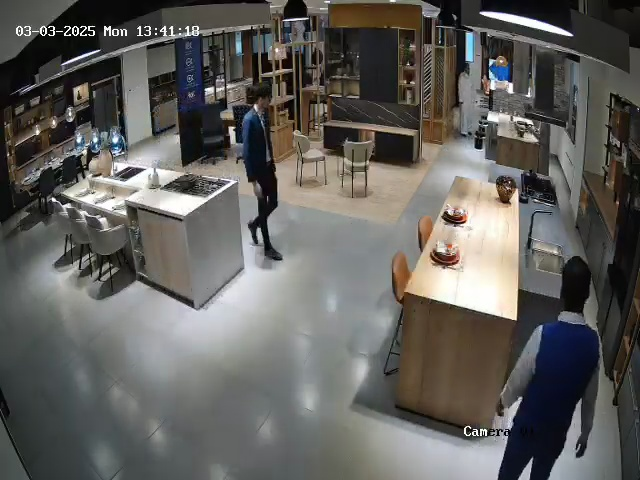employee: (495, 256, 602, 480), (241, 84, 283, 261)
male: (449, 55, 485, 157)
